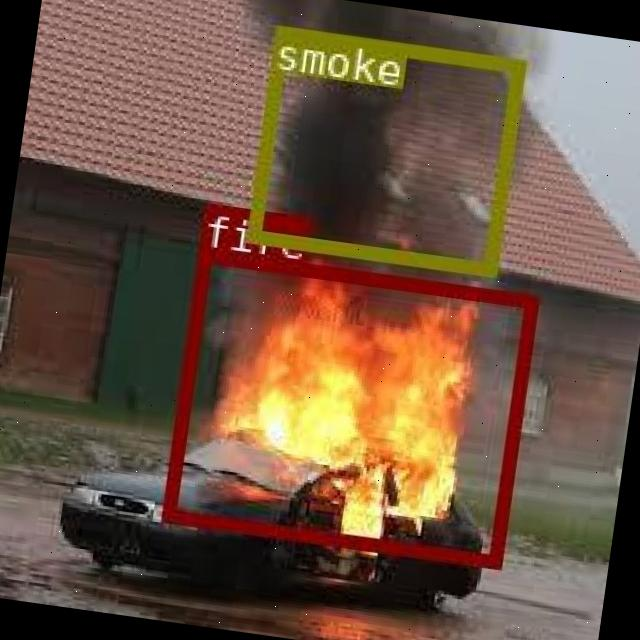fire: (162, 248, 538, 566)
smoke: (247, 24, 522, 274)
